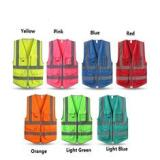Vest: (23, 92, 57, 144), (96, 93, 129, 145), (12, 37, 44, 89), (46, 38, 79, 88), (81, 38, 113, 88), (116, 39, 148, 89), (61, 94, 93, 144)
